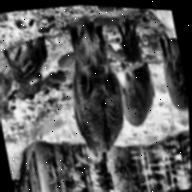boar: (56, 16, 133, 160), (113, 61, 160, 131), (156, 35, 189, 115)
